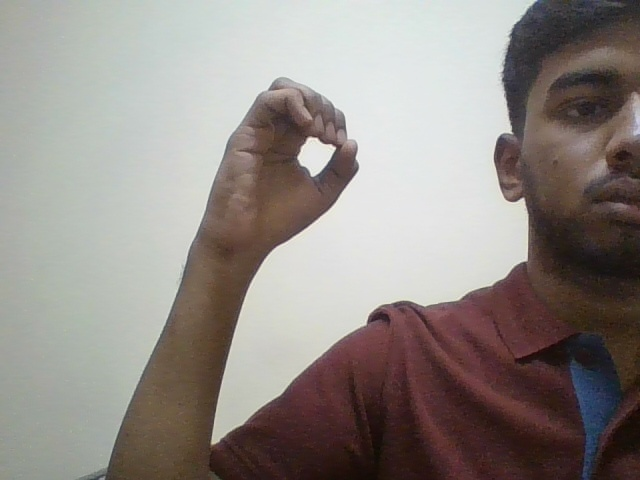O: (170, 43, 392, 270)
